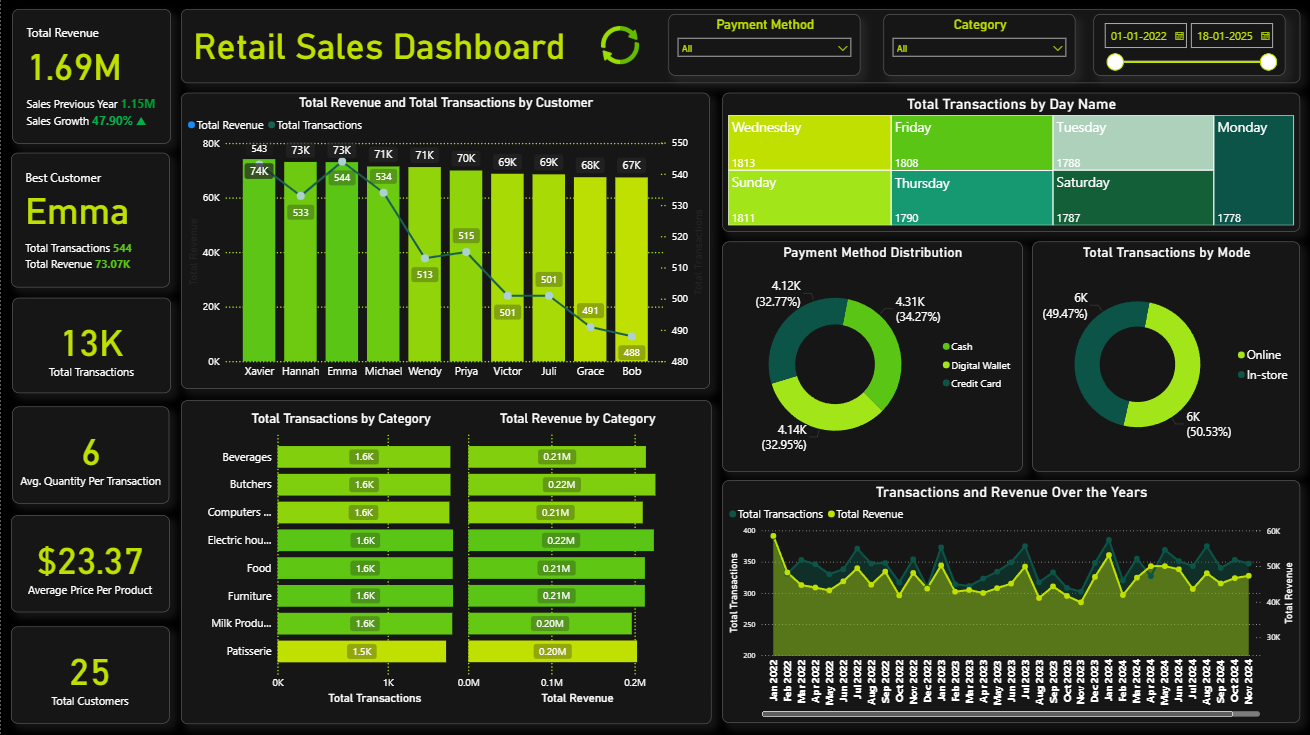

Layout of this report page (visuals, bound fields, positions):
{"tool":"powerbi","page":{"name":"Page 1","canvas":[1920,1080],"ordinal":0},"visuals":[{"type":"shape","box":[263.5,14.4,1642.5,109.1],"z":0},{"type":"shape","box":[263.5,588.7,778,475.5],"z":0,"group":"g1"},{"type":"donutChart","title":"Payment Method Distribution","fields":{"Category":["Sales Data.Payment Method"],"Y":["CountNonNull(Sales Data.Transaction ID)"]},"box":[1058,356.1,440.5,337.6],"z":1000},{"type":"lineChart","title":"Transactions and Revenue Over the Years","fields":{"Y":["CountNonNull(Sales Data.Transaction ID)"],"Category":["DateTable.MonthYear"],"Y2":["Measures Table.Total Revenue"]},"box":[1058,706,848,356.1],"z":2000},{"type":"cardVisual","fields":{"Data":["Measures Table.Total Revenue"]},"box":[16.5,14.4,232.6,197.6],"z":3000},{"type":"card","fields":{"Values":["Measures Table.Total Transactions"]},"box":[16.5,438,232.6,140],"z":4000},{"type":"card","fields":{"Values":["Measures Table.Average Price Per Product"]},"box":[14.4,757.5,232.6,142],"z":5000},{"type":"card","fields":{"Values":["Measures Table.Total Customers"]},"box":[14.4,920.1,232.6,142],"z":6000},{"type":"card","fields":{"Values":["Measures Table.Average Quantity Per Transaction"]},"box":[16.5,598,230.5,142],"z":7000},{"type":"lineStackedColumnComboChart","title":"Total Revenue and Total Transactions by Customer ","fields":{"Category":["Sales Data.Customer Name"],"Y":["Measures Table.Total Revenue"],"Y2":["Measures Table.Total Transactions"]},"box":[263.5,137.9,776,434.3],"z":8000},{"type":"cardVisual","fields":{"Data":["Min(Sales Data.Customer Name)"]},"box":[14.4,226.4,232.6,197.6],"z":9000},{"type":"donutChart","fields":{"Y":["Measures Table.Total Transactions"],"Category":["Sales Data.Mode"]},"box":[1512.9,356.1,393.1,337.6],"z":10000},{"type":"treemap","fields":{"Values":["Measures Table.Total Transactions"],"Group":["Sales Data.Day Name"]},"box":[1058,137.9,848,203.8],"z":11000},{"type":"clusteredBarChart","fields":{"Category":["Sales Data.Category"],"Y":["Measures Table.Total Transactions"]},"box":[285.5,605.1,426.1,434.5],"z":11000,"group":"g1"},{"type":"group","id":"g1","title":"Group 1","box":[263.5,588.7,778,475.5],"z":12000},{"type":"clusteredBarChart","fields":{"Category":["Sales Data.Category"],"Y":["Measures Table.Total Revenue"]},"box":[663.9,605.8,364.3,434.3],"z":12000,"group":"g1"},{"type":"textbox","box":[277.9,32.9,776,74.1],"z":12001},{"type":"slicer","fields":{"Values":["DateTable.Date"]},"box":[1603.4,22.6,282,90.6],"z":12002},{"type":"slicer","title":"Category","fields":{"Values":["Sales Data.Category"]},"box":[1294.7,22.6,282,90.6],"z":12003},{"type":"slicer","title":"Payment Method","fields":{"Values":["Sales Data.Payment Method"]},"box":[979.8,22.6,282,90.6],"z":12004},{"type":"image","box":[835.7,35,144.1,65.9],"z":12005}]}

Visuals, with their boxes in screenshot pixels (x1, y1, x2, y2), scaled from the page's 1920x1080 canvas onto the 1310x735 screenshot:
shape: region(180, 10, 1300, 84)
shape: region(180, 401, 711, 724)
"Payment Method Distribution" donutChart: region(722, 242, 1022, 472)
"Transactions and Revenue Over the Years" lineChart: region(722, 480, 1300, 723)
cardVisual - Measures Table.Total Revenue: region(11, 10, 170, 144)
card - Measures Table.Total Transactions: region(11, 298, 170, 393)
card - Measures Table.Average Price Per Product: region(10, 516, 169, 612)
card - Measures Table.Total Customers: region(10, 626, 169, 723)
card - Measures Table.Average Quantity Per Transaction: region(11, 407, 169, 504)
"Total Revenue and Total Transactions by Customer " lineStackedColumnComboChart: region(180, 94, 709, 389)
cardVisual - Min(Sales Data.Customer Name): region(10, 154, 169, 289)
donutChart - Measures Table.Total Transactions x Sales Data.Mode: region(1032, 242, 1300, 472)
treemap - Measures Table.Total Transactions x Sales Data.Day Name: region(722, 94, 1300, 233)
clusteredBarChart - Sales Data.Category x Measures Table.Total Transactions: region(195, 412, 486, 708)
"Group 1" group: region(180, 401, 711, 724)
clusteredBarChart - Sales Data.Category x Measures Table.Total Revenue: region(453, 412, 702, 708)
textbox: region(190, 22, 719, 73)
slicer - DateTable.Date: region(1094, 15, 1286, 77)
"Category" slicer: region(883, 15, 1076, 77)
"Payment Method" slicer: region(669, 15, 861, 77)
image: region(570, 24, 669, 69)
